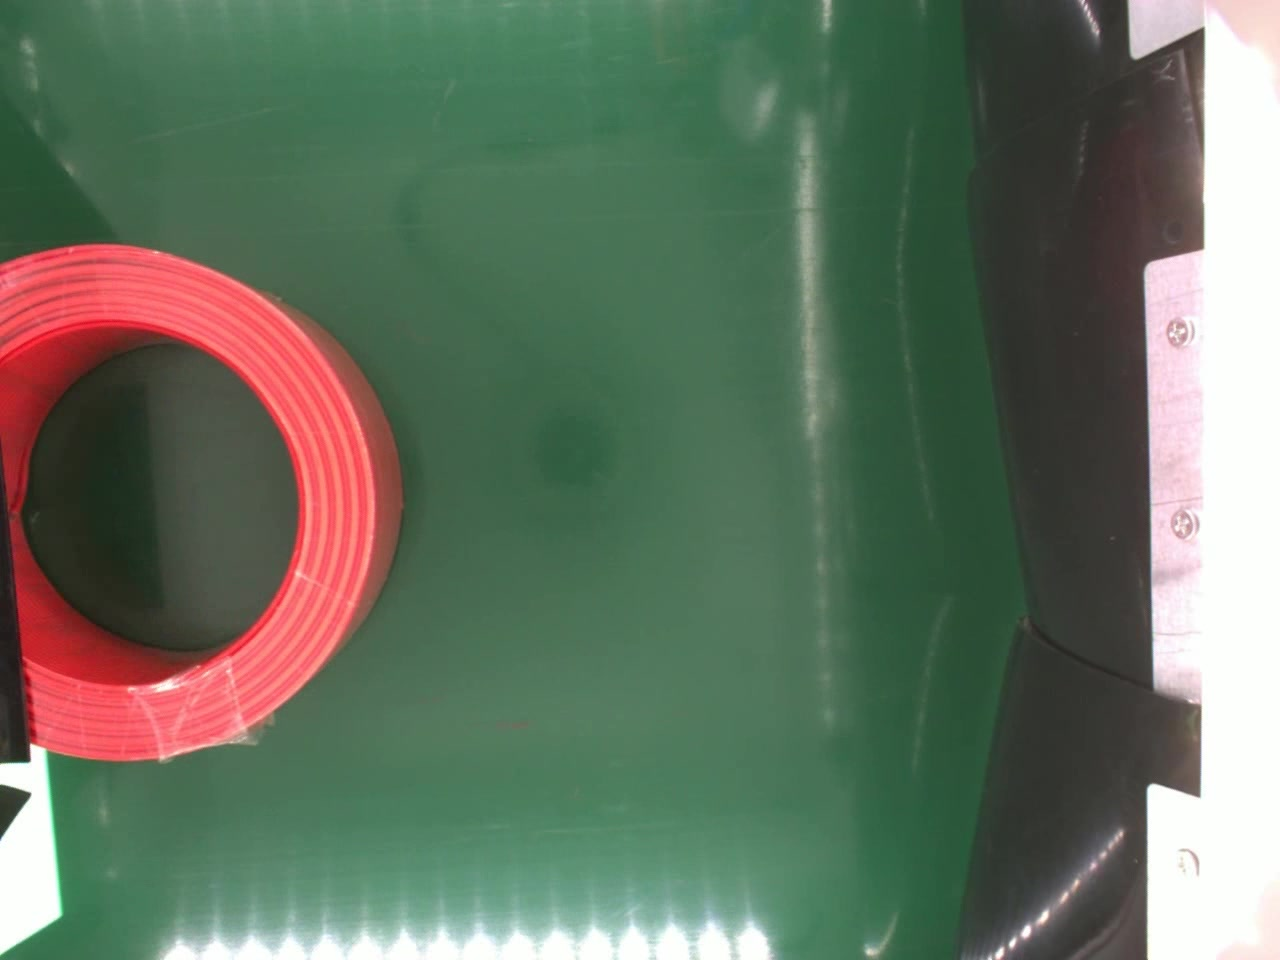red: (0, 240, 406, 765)
